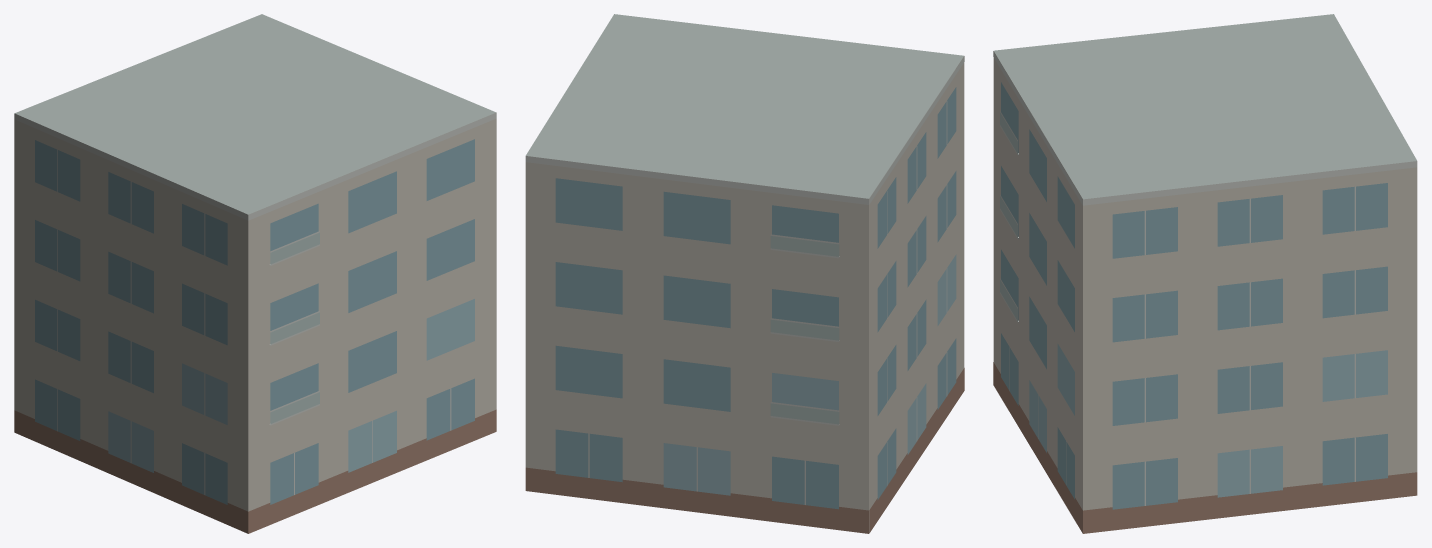
Rendered from survey-upis-32664986.glb.
3 renders of one model, left to right at view 1: azimuth 30°, elevation 25°; view 2: azimuth 150°, elevation 25°; view 3: azimuth 270°, elevation 25°, orthographic. The views are drawn at different scales.
Visible parts, largest first — view 1: survey-upis-32664986.tmp; view 2: survey-upis-32664986.tmp; view 3: survey-upis-32664986.tmp.
Boxes of the visible parts, x1,y1,x2,y2 form: survey-upis-32664986.tmp: [14, 14, 496, 533]; survey-upis-32664986.tmp: [525, 14, 964, 533]; survey-upis-32664986.tmp: [993, 14, 1417, 533].
Size of the model in its own units: 15.4 by 12.95 by 14.88.
